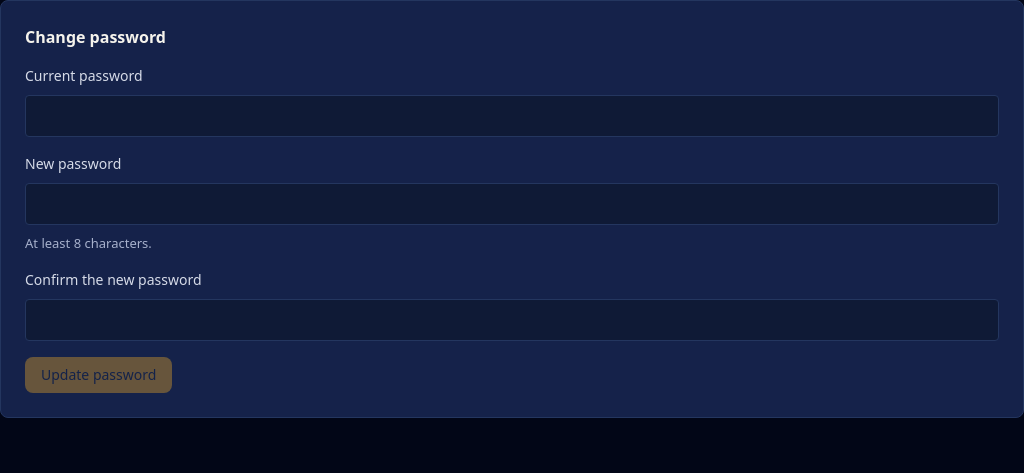
Test: PasswordCard › sends current + new to /api/account/password and clears the form on success
Type "old-password" into the password field labelled "Current password" at [512, 116], box top-left (25, 95), bottom-right (999, 137)
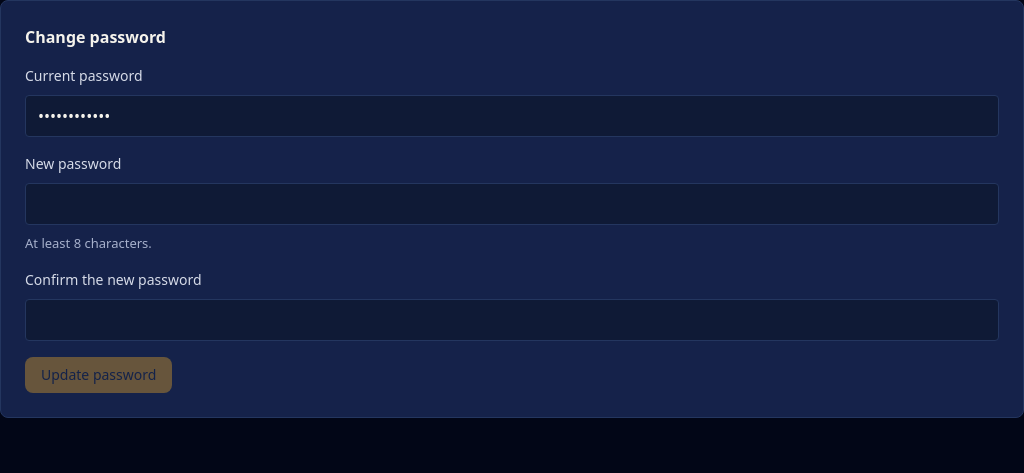
Type "brand-new-pass" into the password field labelled "New password" at [512, 204], box top-left (25, 183), bottom-right (999, 225)
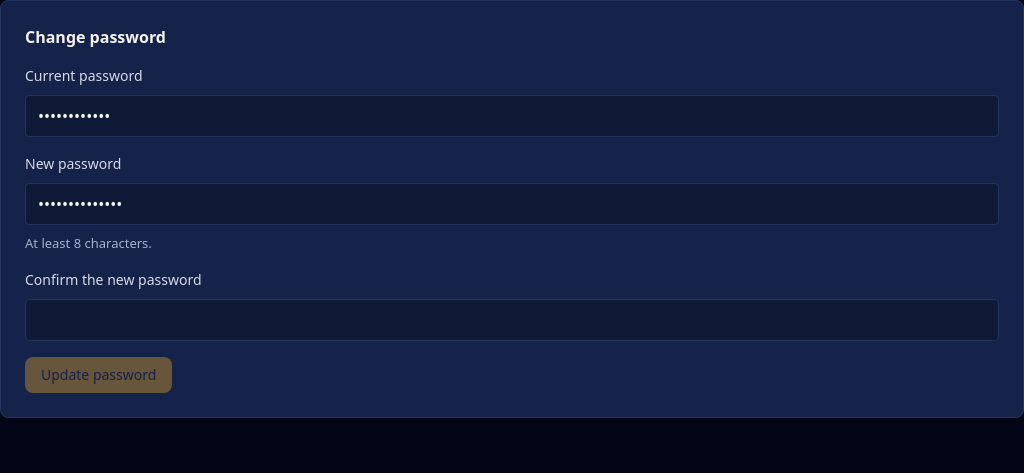
Type "brand-new-pass" into the password field labelled "Confirm the new password" at [512, 320], box top-left (25, 299), bottom-right (999, 341)
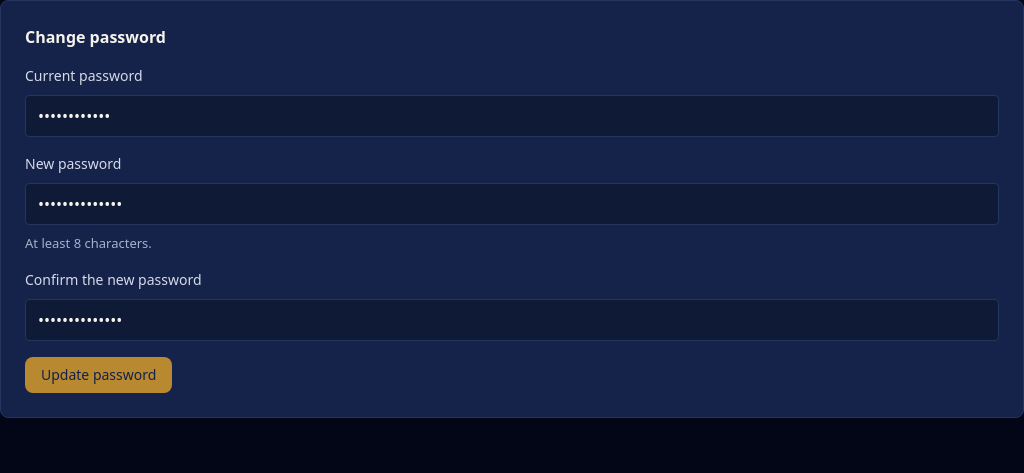
Click the button "Update password" at [99, 375], box top-left (25, 357), bottom-right (172, 393)
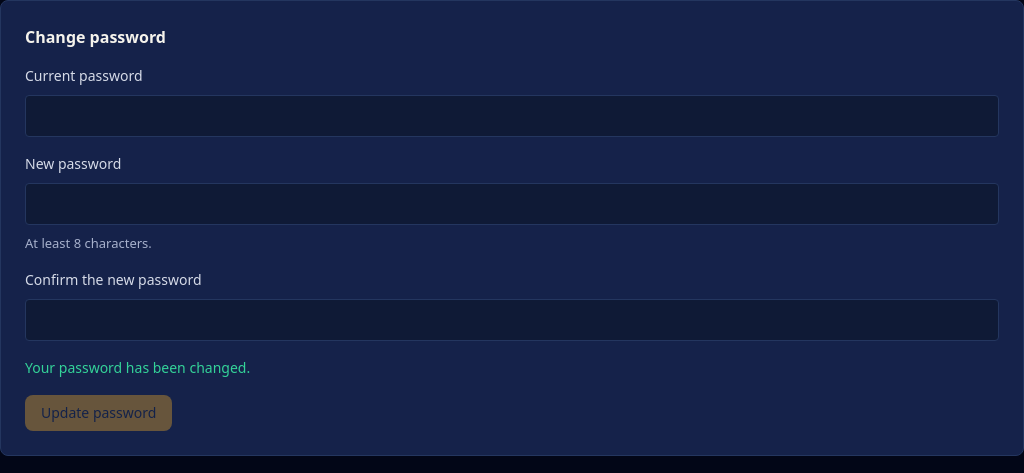
expect the message reads "Your password has been changed.": met, box top-left (25, 358), bottom-right (250, 377)
expect the password field labelled "Current password" is empty: met, box top-left (25, 95), bottom-right (999, 137)
